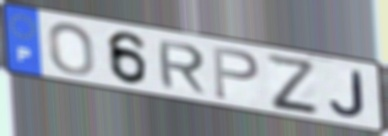6: (105, 29, 149, 88)
J: (328, 68, 368, 119)
O: (46, 21, 97, 77)
P: (210, 44, 262, 102)
R: (155, 38, 209, 96)
Z: (263, 51, 322, 115)
